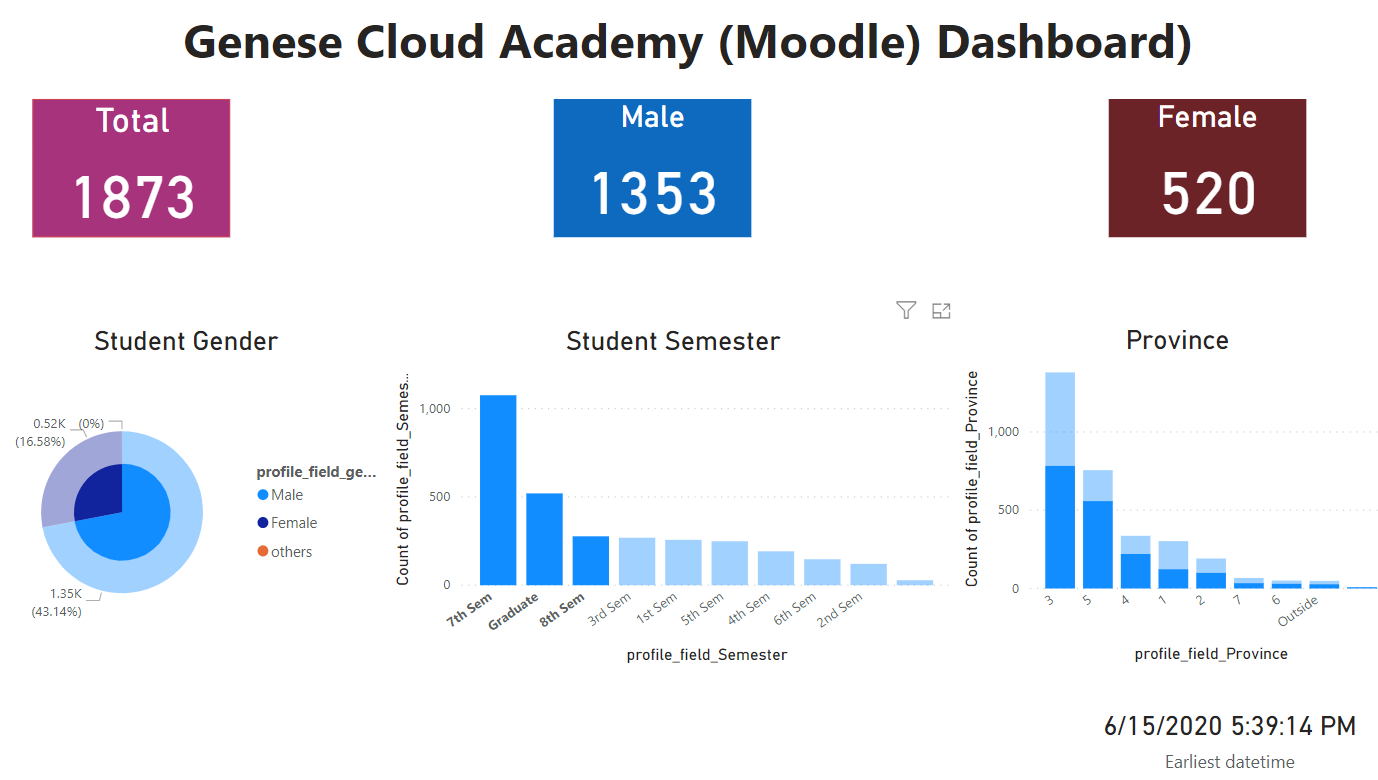

What the dashboard file says about the page in this screenshot:
{"tool":"powerbi","page":{"name":"Dashboard","canvas":[1280,720],"ordinal":0},"visuals":[{"type":"pieChart","title":"Student Gender","fields":{"Category":["user_latest.profile_field_gender1"],"Series":["user_latest.profile_field_gender1"],"Y":["CountNonNull(user_latest.profile_field_gender)"]},"box":[2.1,303.2,367.2,310.5],"z":0},{"type":"columnChart","title":"Student Semester","fields":{"Category":["user_latest.profile_field_Semester1"],"Y":["CountNonNull(user_latest.profile_field_Semester)1"]},"box":[369.4,303.2,513.4,310.5],"z":1000},{"type":"columnChart","title":"Province","fields":{"Category":["user_latest.profile_field_Province1"],"Y":["CountNonNull(user_latest.profile_field_Province)1"]},"box":[882.3,302.7,397.4,310.5],"z":2000},{"type":"card","title":"Total","fields":{"Values":["CountNonNull(user_latest.id)"]},"box":[47.1,98.8,178.8,124.4],"z":3000},{"type":"card","title":"Male","fields":{"Values":["CountNonNull(user_latest.profile_field_gender)"]},"box":[518.2,98.8,178.8,124.4],"z":4000},{"type":"card","title":"Female","fields":{"Values":["CountNonNull(user_latest.profile_field_gender)"]},"box":[1019.5,98.8,178.8,124.4],"z":5000},{"type":"textbox","box":[0,10.9,1279.3,72.5],"z":6000},{"type":"card","fields":{"Values":["Min(Kathmandu.datetime)"]},"box":[994.2,641.5,268.2,68.9],"z":7000}]}

Visuals, with their boxes in screenshot pixels (x1, y1, x2, y2), scaled from the page's 1280x720 canvas onto the 1378x780 screenshot:
"Student Gender" pieChart: <bbox>2, 328, 398, 665</bbox>
"Student Semester" columnChart: <bbox>398, 328, 950, 665</bbox>
"Province" columnChart: <bbox>950, 328, 1377, 664</bbox>
"Total" card: <bbox>51, 107, 243, 242</bbox>
"Male" card: <bbox>558, 107, 750, 242</bbox>
"Female" card: <bbox>1098, 107, 1290, 242</bbox>
textbox: <bbox>0, 12, 1377, 90</bbox>
card - Min(Kathmandu.datetime): <bbox>1070, 695, 1359, 770</bbox>
